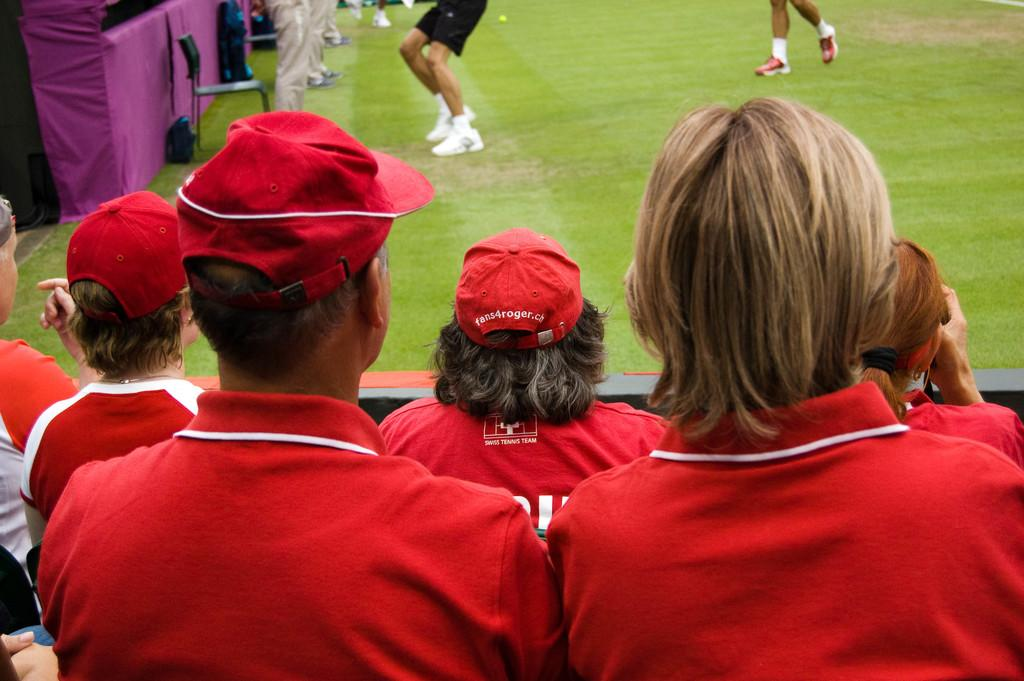Hat: (178, 106, 436, 303), (62, 184, 189, 318), (452, 225, 583, 351)
